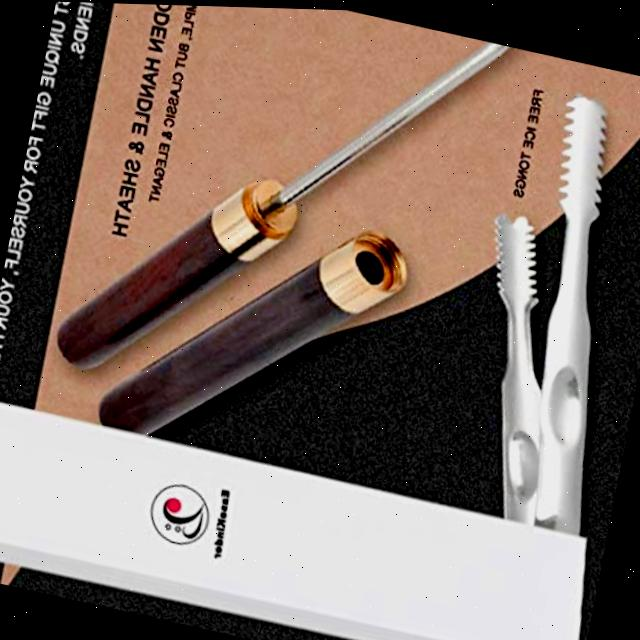ice pick: (48, 1, 530, 449), (94, 174, 418, 484)
